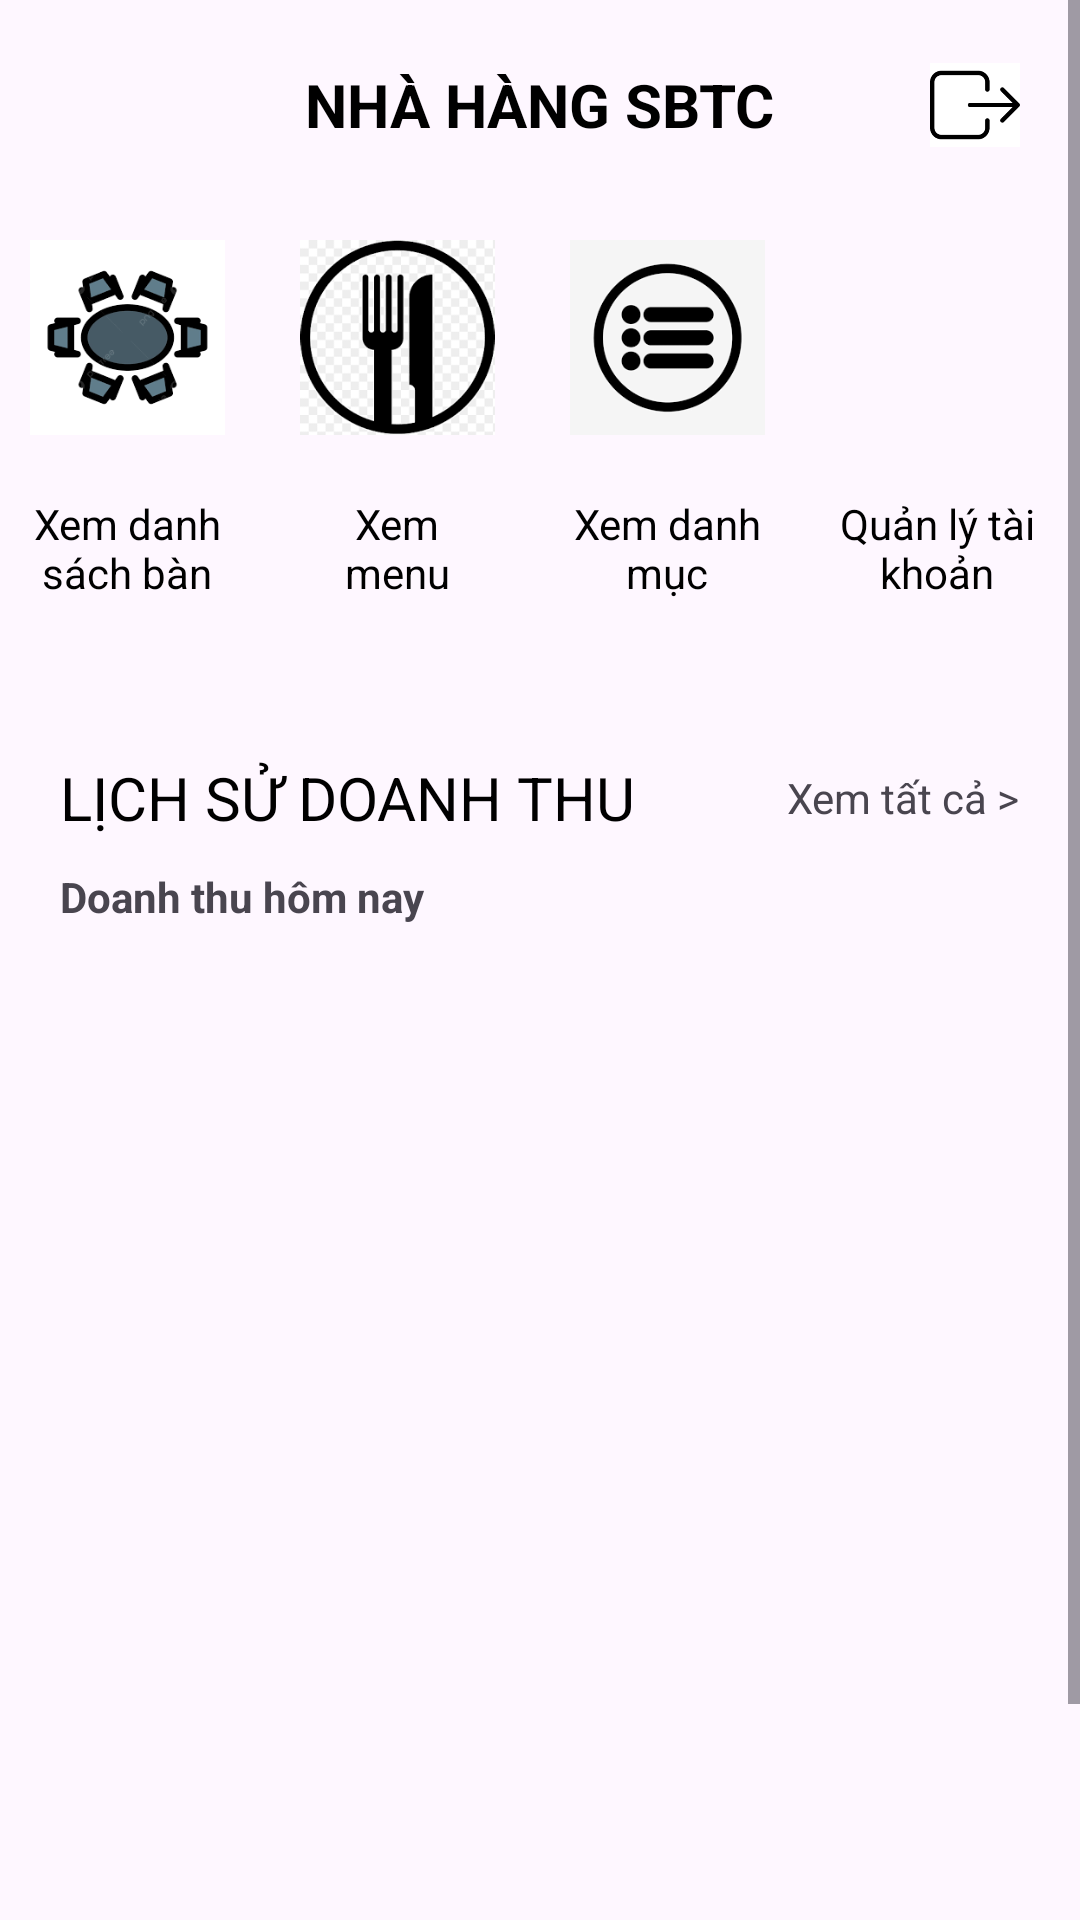

Where to tap for icons on this 1080 × 1920 app screen, as point (x, y):
danhmuc: point (667, 337)
tablefood: point (127, 337)
thucdon: point (397, 337)
